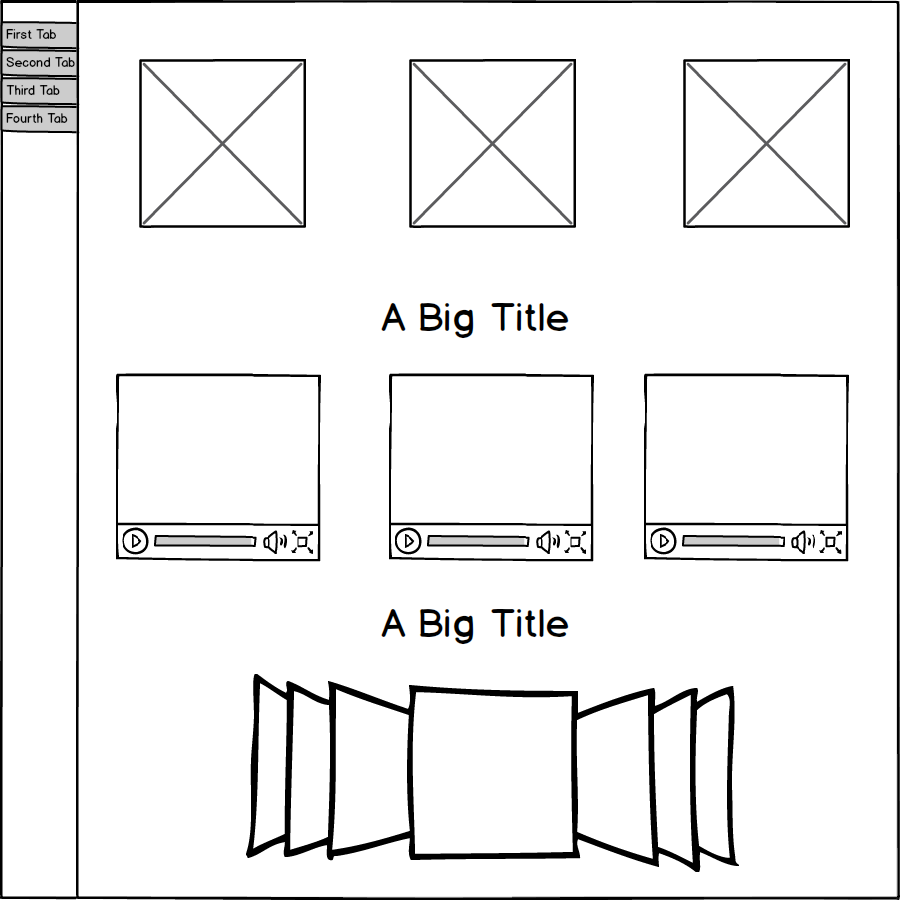h1: (371, 599, 579, 652), (375, 296, 574, 343)
image: (130, 52, 312, 236), (679, 52, 853, 234), (407, 54, 582, 234)
sidebar: (1, 14, 90, 144)
slideshow: (238, 667, 768, 878)
video: (383, 370, 601, 569), (639, 366, 852, 567), (112, 371, 324, 564)
